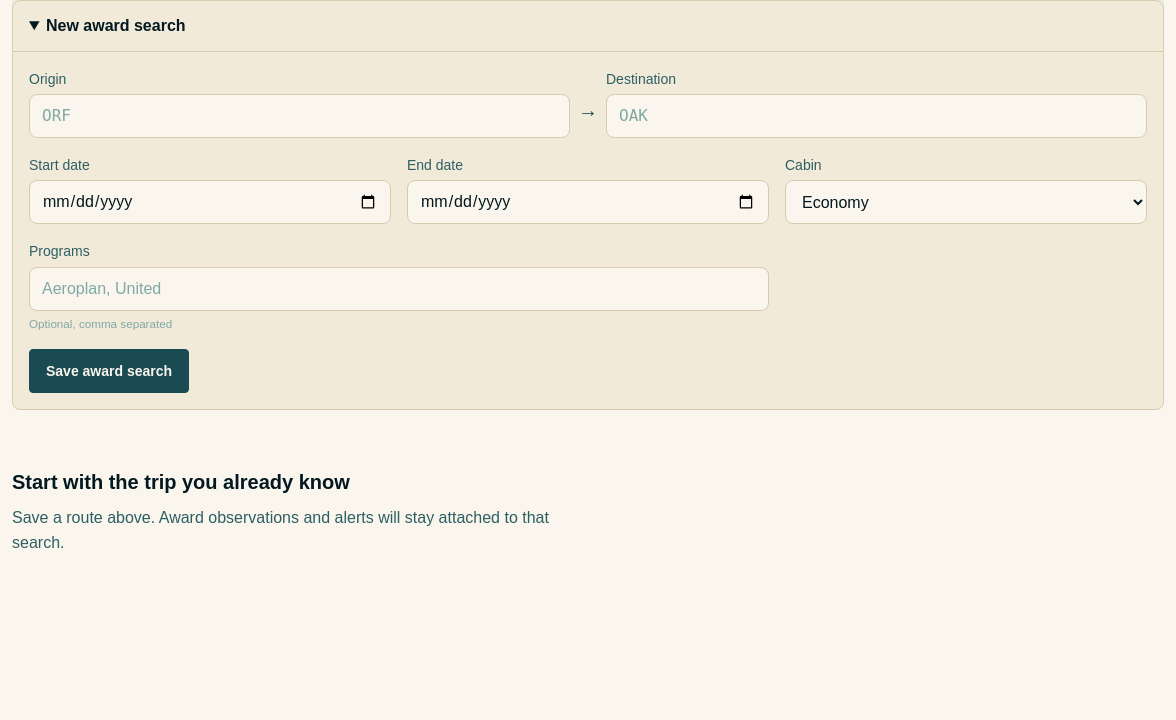
Test: AwardWorkspace › creates a normalized search from the empty state
Type "orf" into the field labelled "Origin" at [300, 116], box [29,94,570,138]
Type "oak" into the field labelled "Destination" at [876, 116], box [606,94,1147,138]
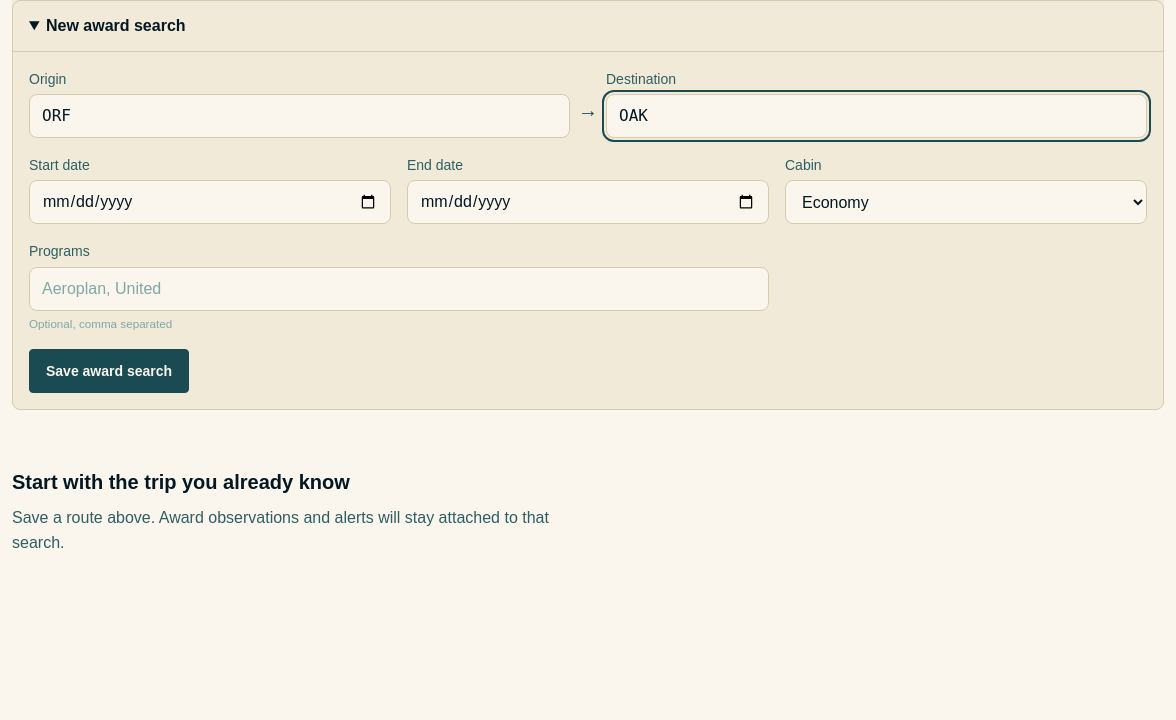
Type "2026-08-14" into the date field labelled "Start date" at [210, 202], box [29,180,391,224]
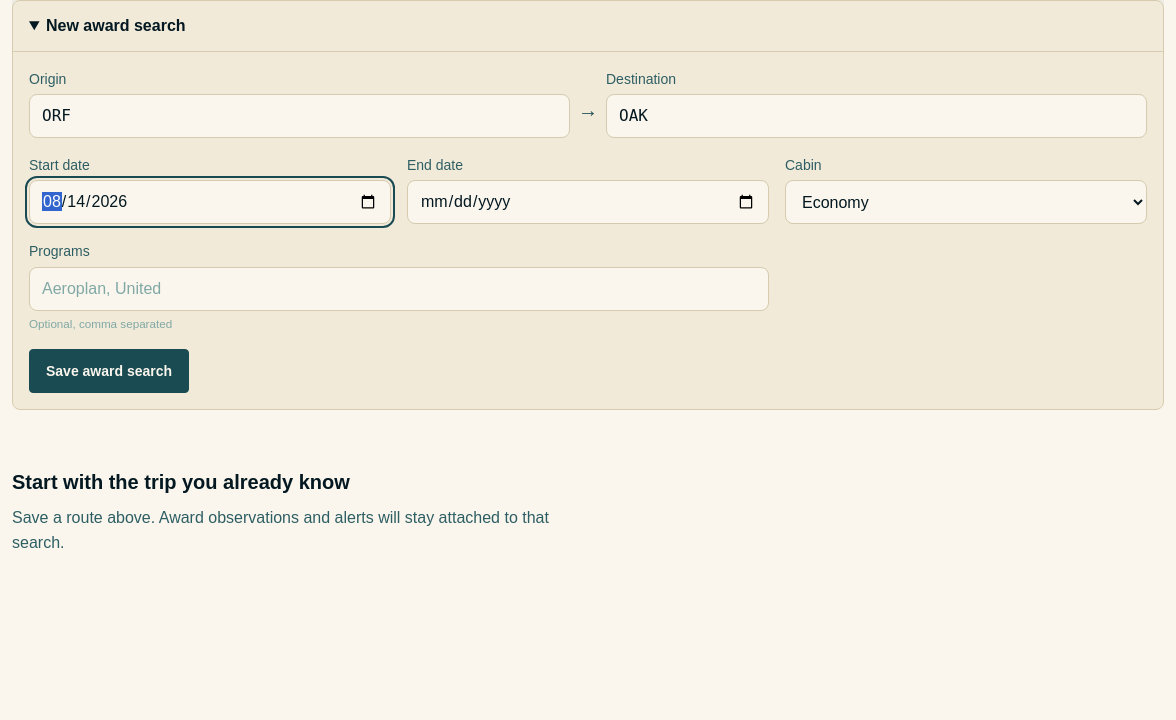
Type "2026-08-17" into the date field labelled "End date" at [588, 202], box [407,180,769,224]
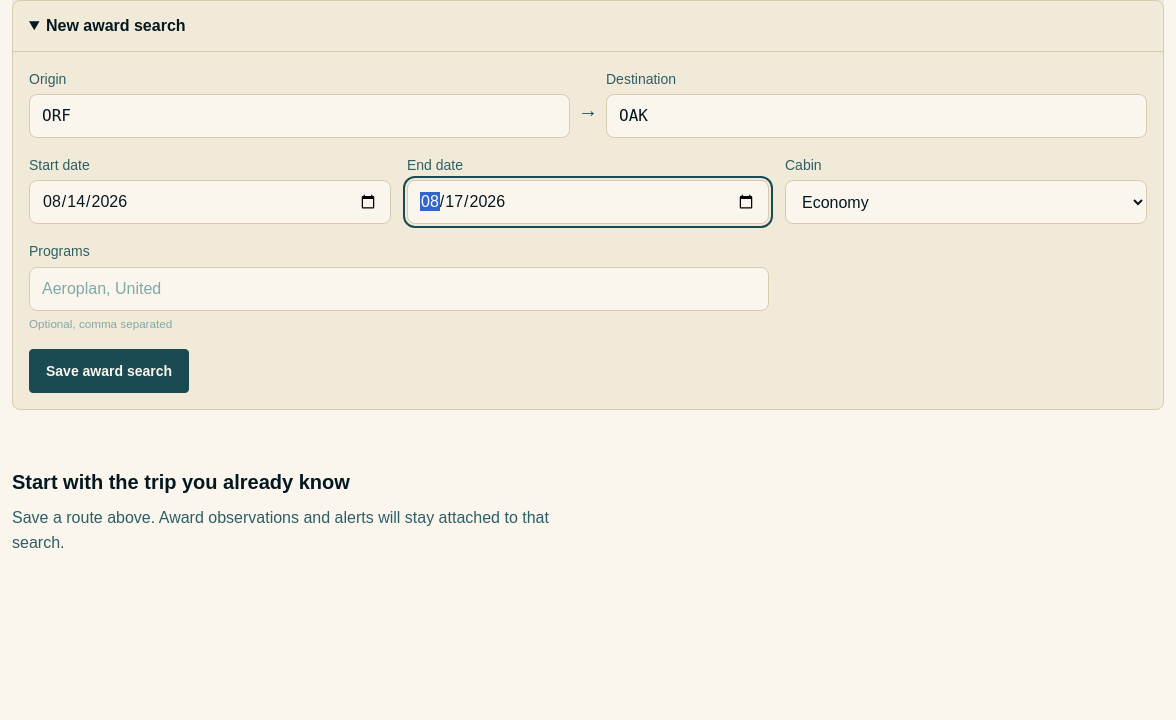
Select "Business" in the dropdown labelled "Cabin" at [966, 202], box [785,180,1147,224]
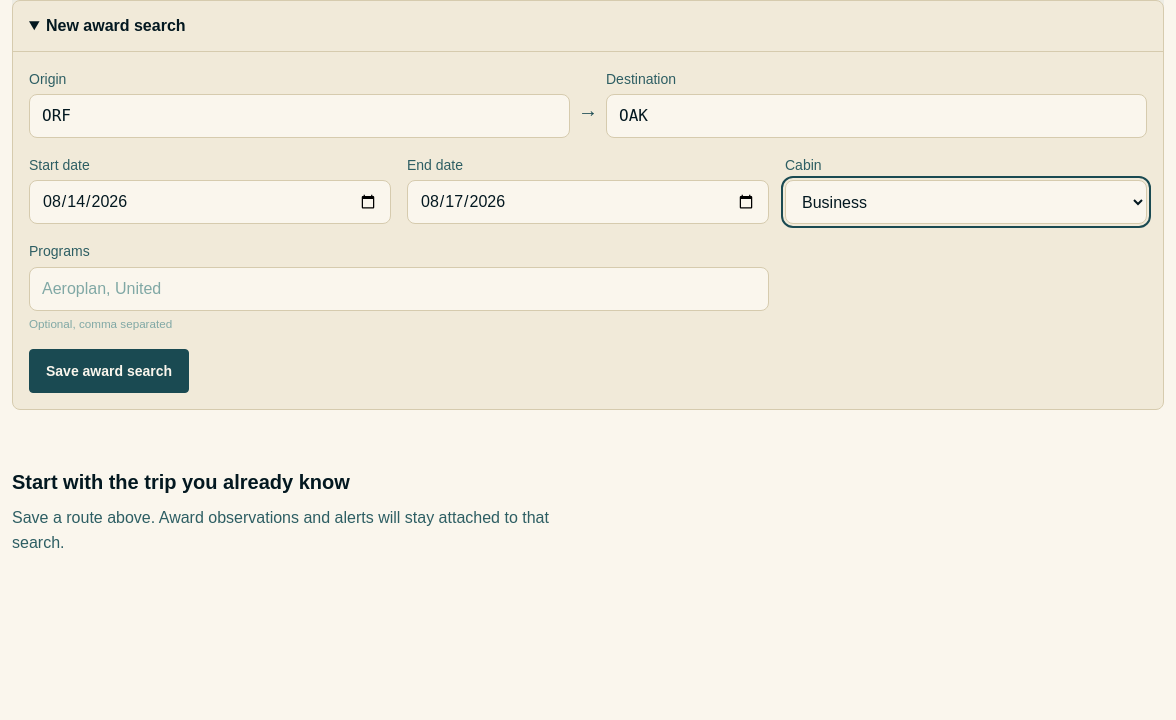
Type "Aeroplan, United, aeroplan" into the field labelled "Programs" at [399, 289], box [29,267,769,311]
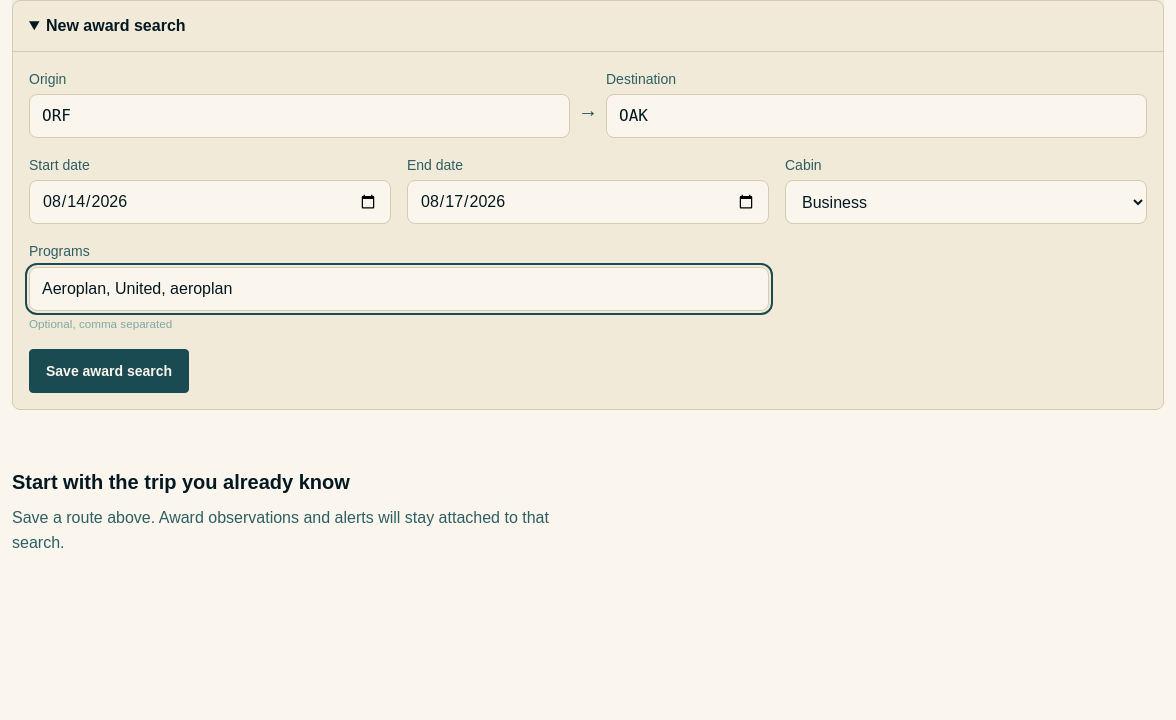
Click the button "Save award search" at [109, 371], box [29,349,189,393]
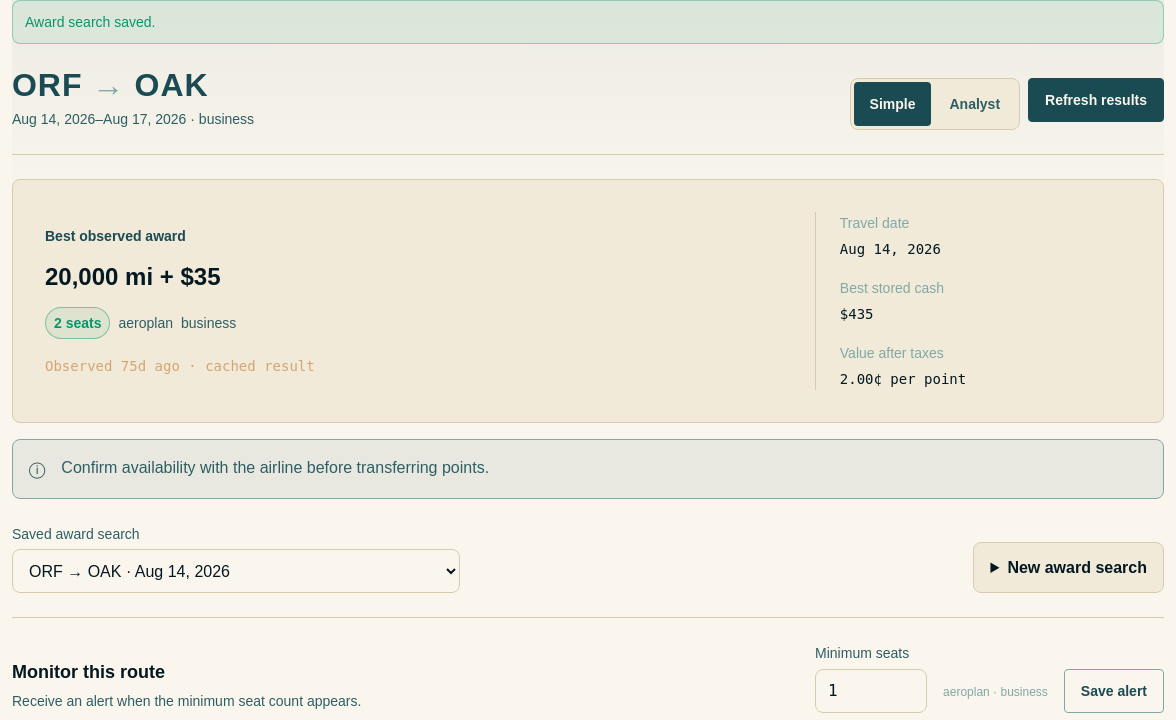
Result: the heading named "ORF to OAK" is shown at [12,67,209,103]
